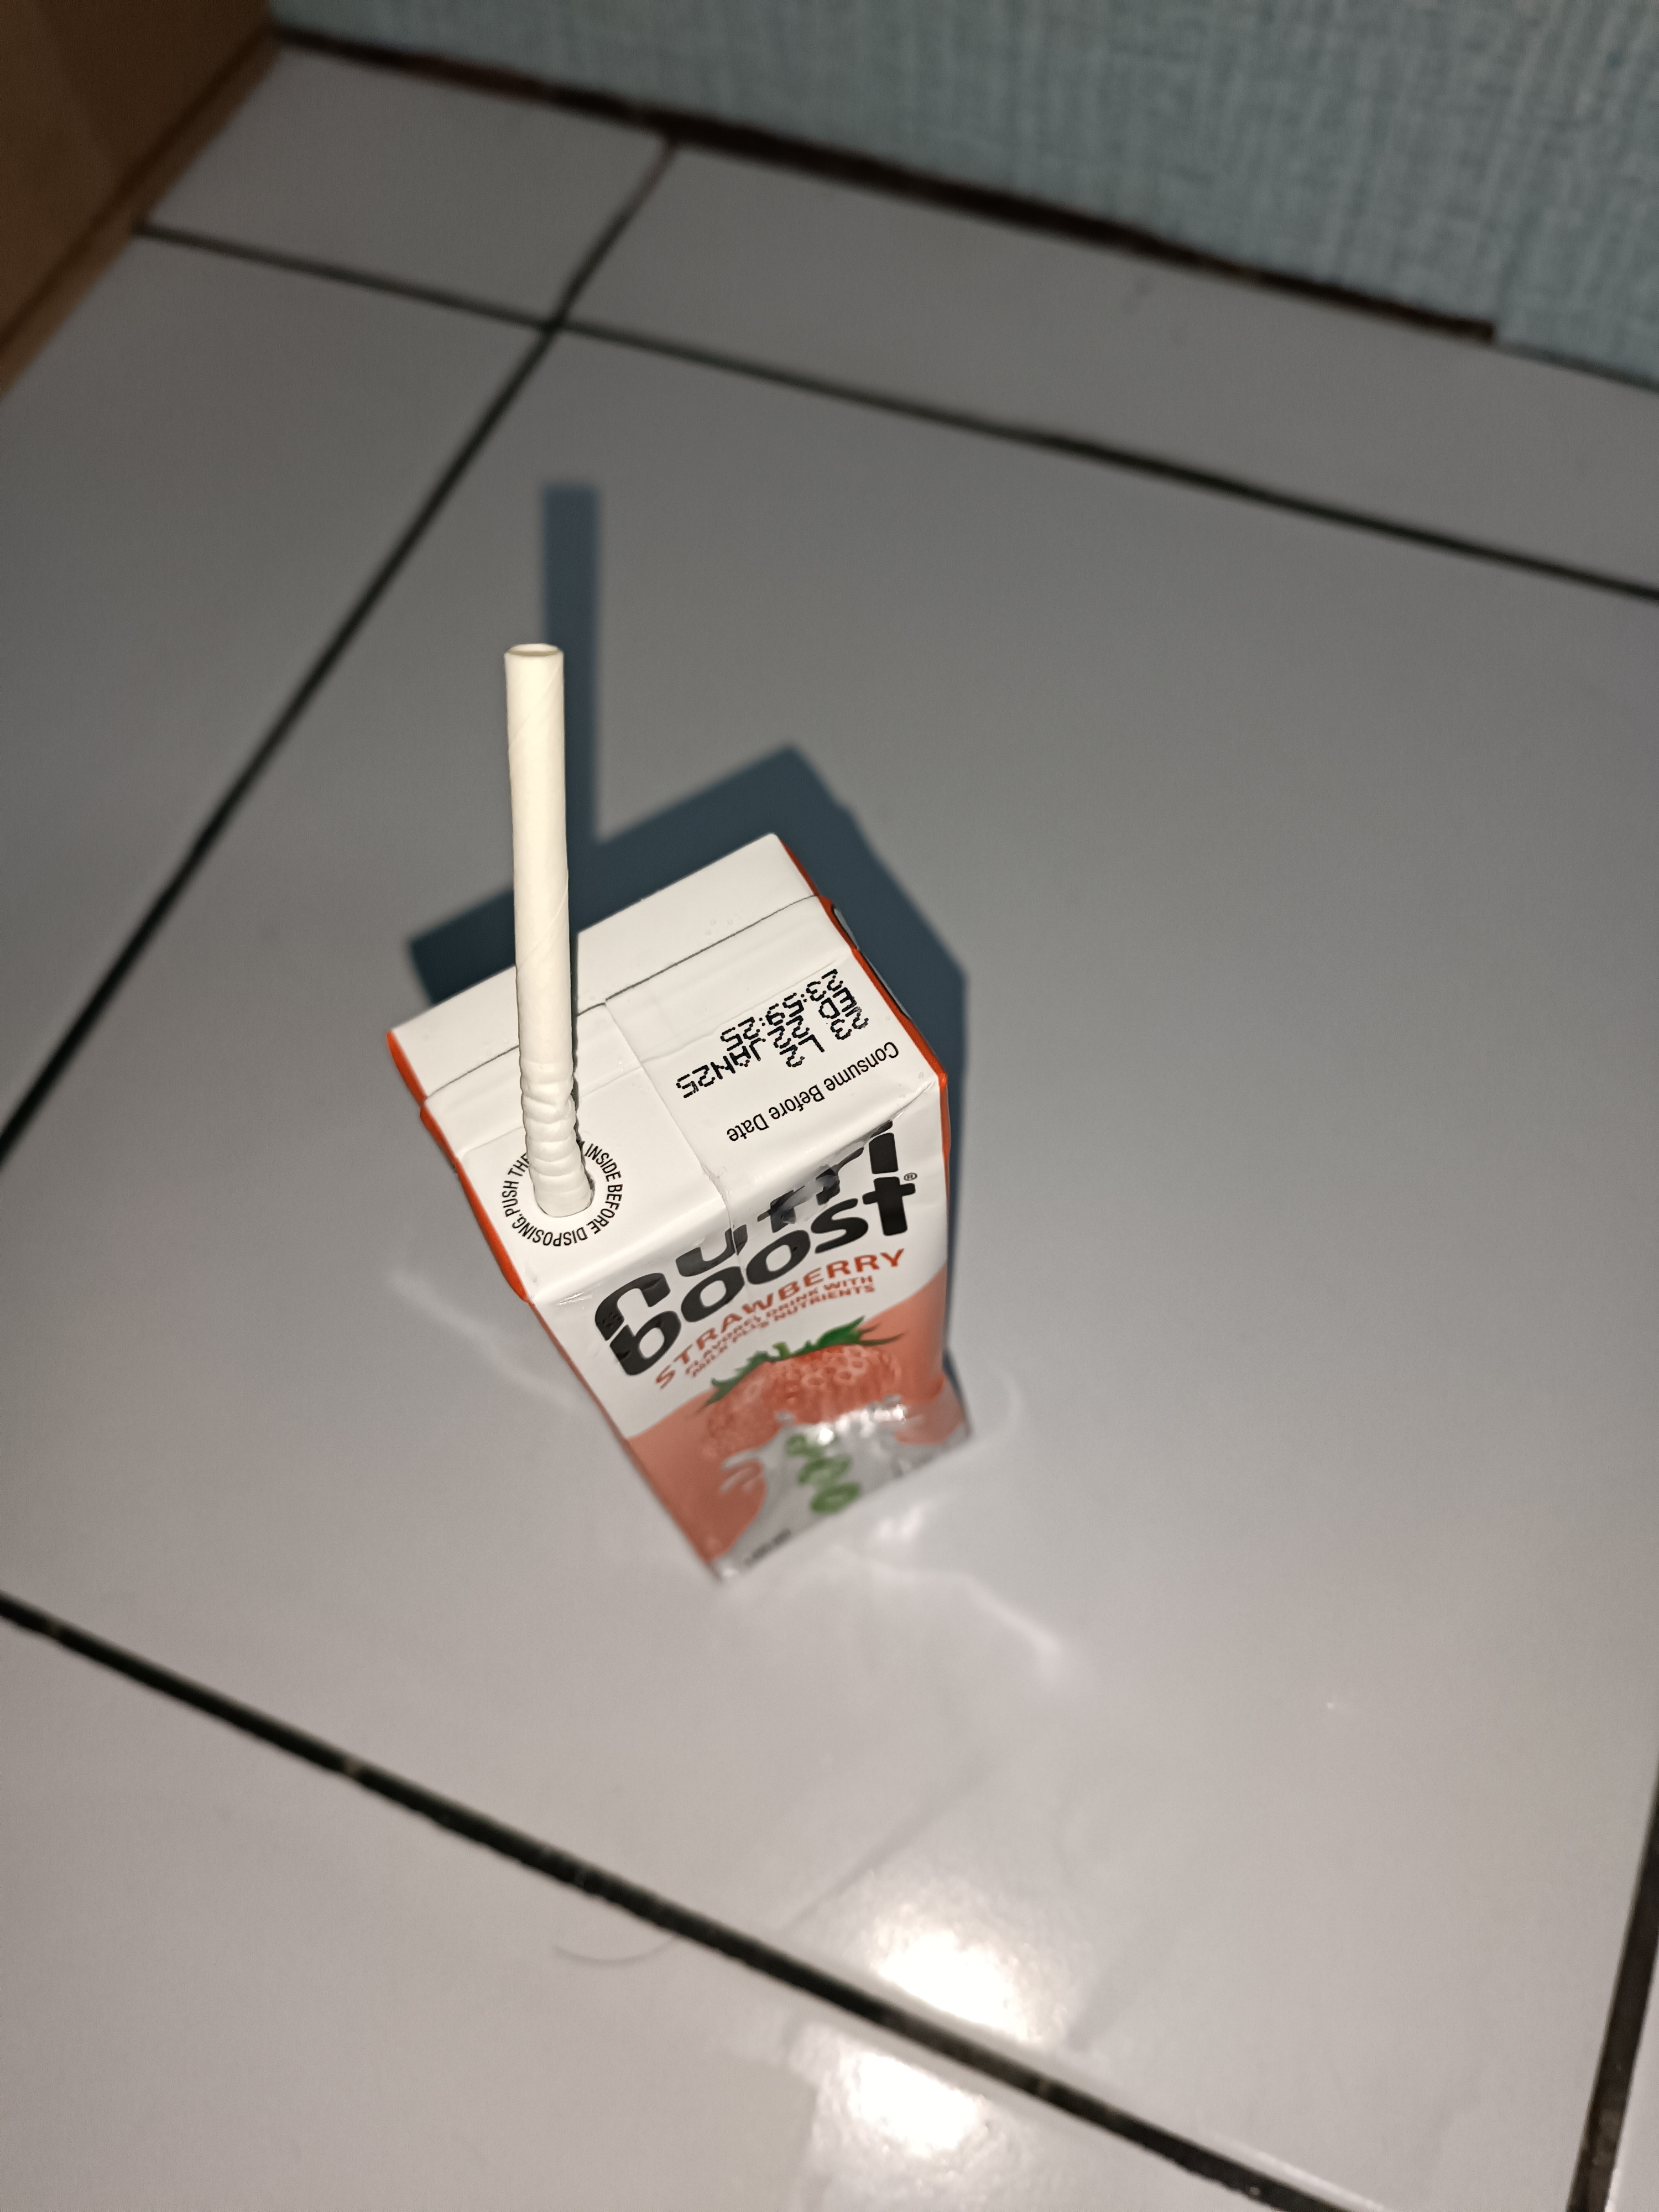Juice Box: (310, 686, 1121, 1625)
